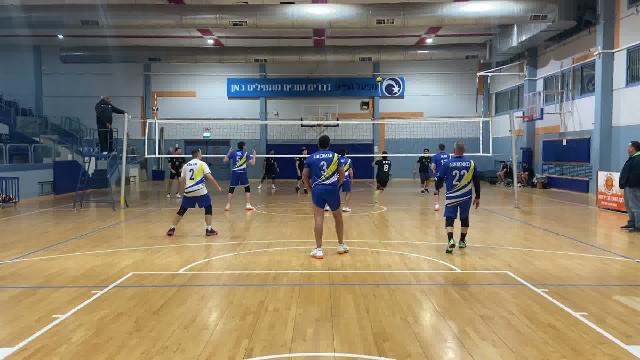ball: (375, 76, 385, 85)
